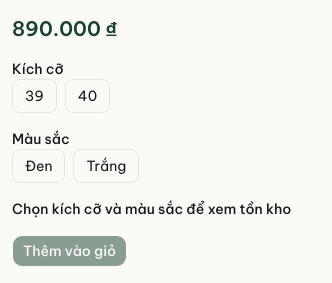
Scenario: VariantSelector › hiển thị giá theo priceOverride của variant đang chọn khi có
Click the radio button labelled "40" at (88,96), box [65,79,110,113]
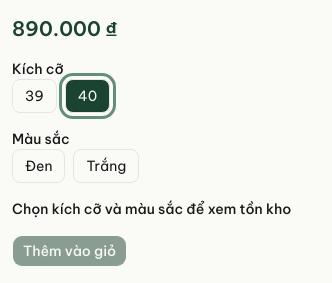
Click the radio button labelled "Trắng" at (106,166), box [74,149,139,183]
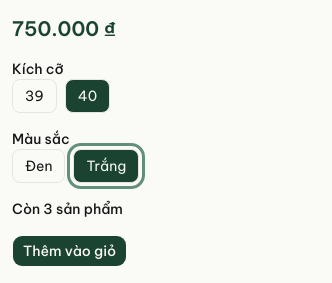
Expected: the text "750.000 ₫" is shown, [12,16,116,41]
